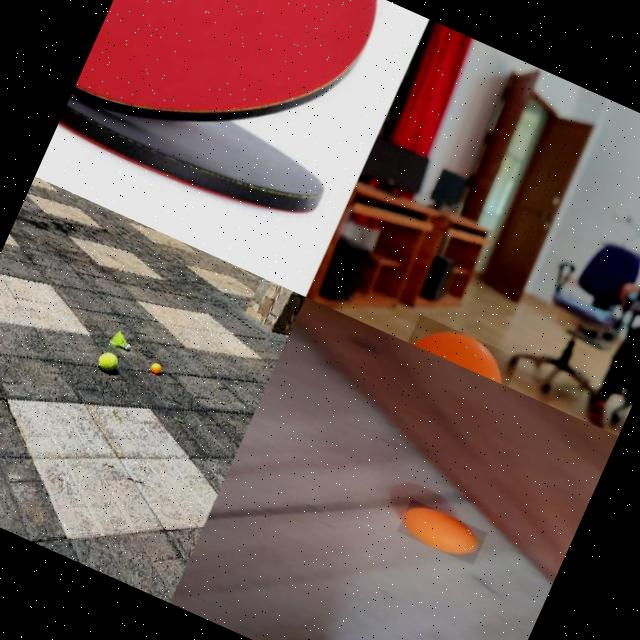ping-pong-ball: (406, 312, 521, 386), (394, 498, 486, 564), (150, 361, 162, 372)
